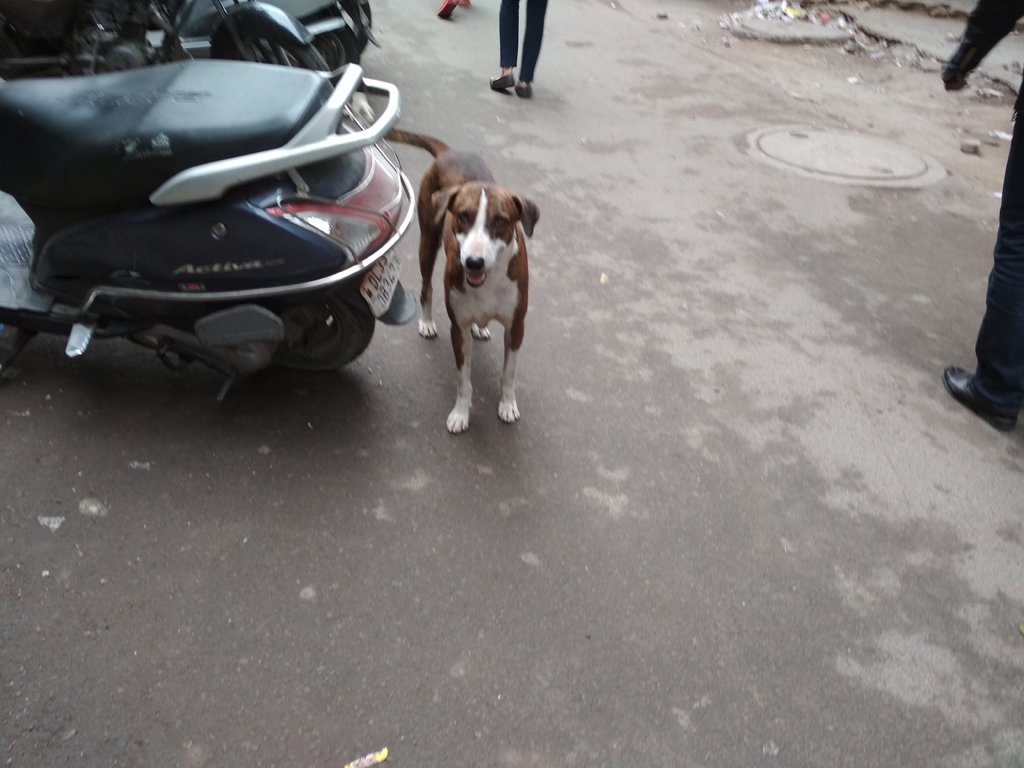dog: (382, 124, 539, 433)
